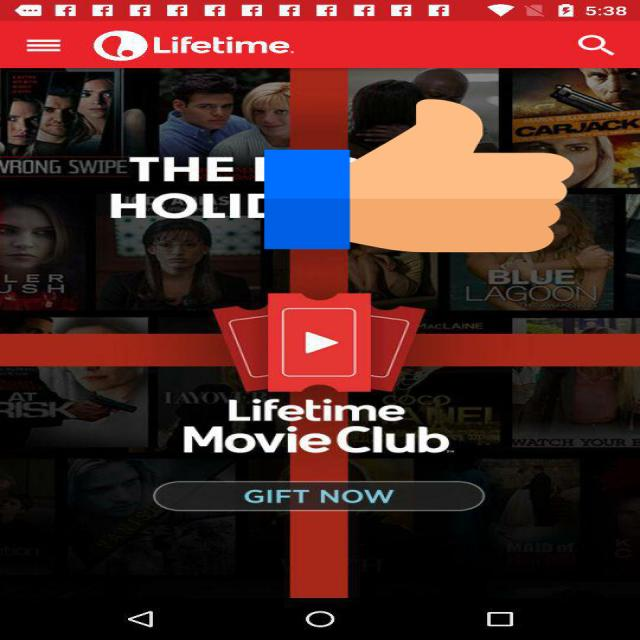privacy zuckering: (264, 95, 574, 256)
